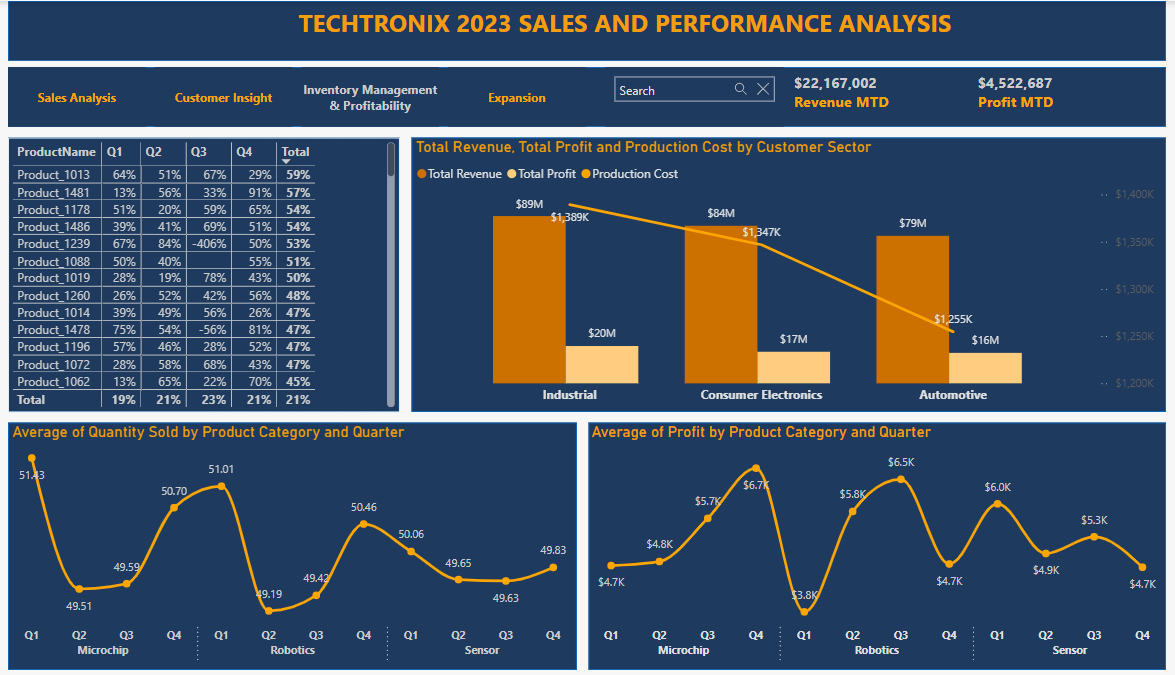

What the dashboard file says about the page in this screenshot:
{"tool":"powerbi","page":{"name":"Inventory Management & Profitability","canvas":[1302,750],"ordinal":2},"visuals":[{"type":"shape","box":[10,465,628.3,273.3],"z":0},{"type":"shape","box":[651.2,465.6,637.9,273.4],"z":1000},{"type":"shape","box":[455.6,150.8,833.4,303.2],"z":2000},{"type":"shape","box":[9.9,150.8,432.4,303.2],"z":3000},{"type":"shape","box":[9.9,72.9,1279.1,66.3],"z":4000},{"type":"shape","box":[9.9,0,1279.1,66.3],"z":5000},{"type":"textbox","box":[223.7,0,942.8,66.3],"z":6000},{"type":"multiRowCard","fields":{"Values":["Measures (2).Revenue MTD","Measures (2).Profit MTD"]},"box":[873.2,72.9,415.9,66.3],"z":7000},{"type":"pageNavigator","box":[9.9,72.9,639.6,66.3],"z":8000},{"type":"pivotTable","fields":{"Rows":["Product_Dim.ProductName"],"Columns":["Calender_Dim.Quarter"],"Values":["Measures (2).Profit Margin"]},"box":[9.9,150.8,432.4,303.2],"z":9000},{"type":"textSearchSlicerF85E2E78BE4A4D7D9F99ED75B5D71C85","fields":{"fields":["Product_Dim.ProductName"]},"box":[669.4,72.9,197.2,66.3],"z":10000},{"type":"lineClusteredColumnComboChart","title":"Total Revenue, Total Profit and Production Cost by Customer Sector","fields":{"Category":["Customer_Dim.CustomerSector"],"Y":["Measures (2).Total Revenue","Measures (2).Total Profit"],"Y2":["Measures (2).Production Cost"]},"box":[455.6,150.8,833.4,303.2],"z":11000},{"type":"lineChart","title":"Average of Quantity Sold by Product Category and Quarter","fields":{"Y":["Avg(Techronix (Fact table).QuantitySold)"],"Category":["Product_Dim.ProductCategory","Calender_Dim.Quarter"]},"box":[9.9,465.6,628,273.4],"z":12000},{"type":"lineChart","title":"Average of Profit by Product Category and Quarter","fields":{"Y":["Avg(Techronix (Fact table).Profit)"],"Category":["Product_Dim.ProductCategory","Calender_Dim.Quarter"]},"box":[649.5,465.6,639.6,273.4],"z":13000}]}

Visuals, with their boxes in screenshot pixels (x1, y1, x2, y2), scaled from the page's 1302x750 canvas onto the 1175x675 screenshot:
shape: pyautogui.locateOnScreen(9, 418, 576, 664)
shape: pyautogui.locateOnScreen(588, 419, 1163, 665)
shape: pyautogui.locateOnScreen(411, 136, 1163, 409)
shape: pyautogui.locateOnScreen(9, 136, 399, 409)
shape: pyautogui.locateOnScreen(9, 66, 1163, 125)
shape: pyautogui.locateOnScreen(9, 0, 1163, 60)
textbox: pyautogui.locateOnScreen(202, 0, 1053, 60)
multiRowCard - Measures (2).Revenue MTD x Measures (2).Profit MTD: pyautogui.locateOnScreen(788, 66, 1163, 125)
pageNavigator: pyautogui.locateOnScreen(9, 66, 586, 125)
pivotTable - Product_Dim.ProductName x Calender_Dim.Quarter: pyautogui.locateOnScreen(9, 136, 399, 409)
textSearchSlicerF85E2E78BE4A4D7D9F99ED75B5D71C85 - Product_Dim.ProductName: pyautogui.locateOnScreen(604, 66, 782, 125)
"Total Revenue, Total Profit and Production Cost by Customer Sector" lineClusteredColumnComboChart: pyautogui.locateOnScreen(411, 136, 1163, 409)
"Average of Quantity Sold by Product Category and Quarter" lineChart: pyautogui.locateOnScreen(9, 419, 576, 665)
"Average of Profit by Product Category and Quarter" lineChart: pyautogui.locateOnScreen(586, 419, 1163, 665)
